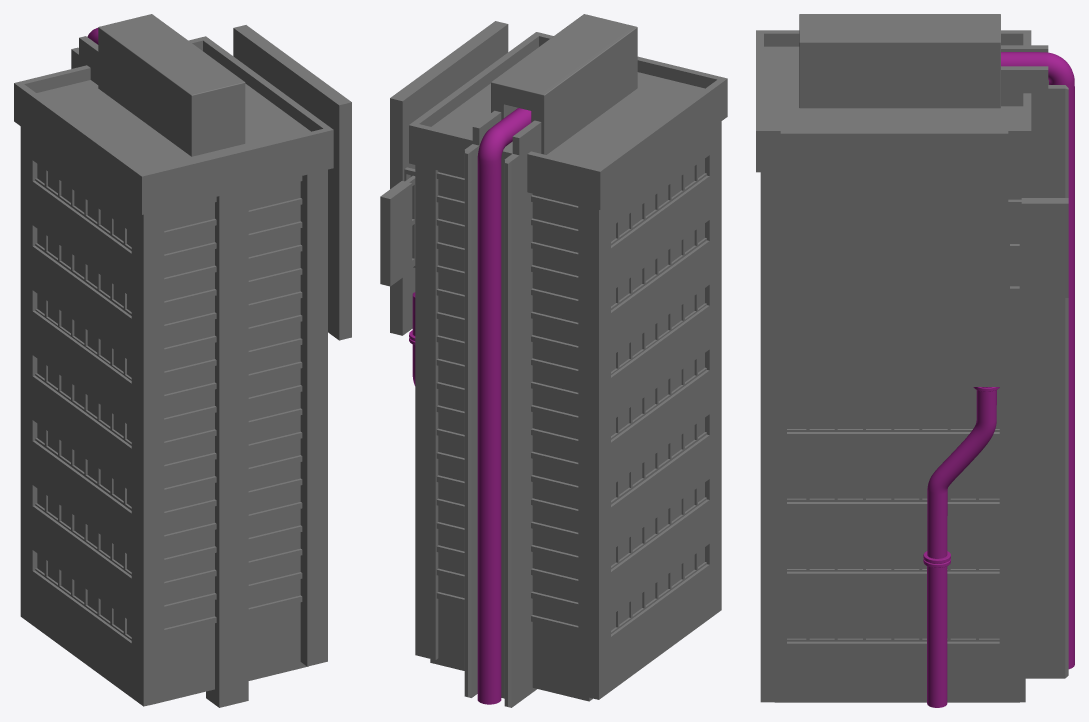
File: batiment6.fbx
3 renders of one model, left to right at view 1: azimuth 30°, elevation 25°; view 2: azimuth 150°, elevation 25°; view 3: azimuth 270°, elevation 25°, orthographic. The views are drawn at different scales.
Visible parts, largest first — view 1: Building_10_Main_04, Building_10_Main_06, Building_10_Main_01, Building_10_Main_02, Building_10_Main_05, Building_10_Main_08, Building_10_Main_03, Building_10_Sub_01, Building_10_Windows_02_4, Building_10_Windows_02_3, Building_10_Windows_02_7, Building_10_Windows_02_6 (+4 smaller); view 2: Building_10_Main_04, Building_10_Main_06, Building_10_Main_07, Building_10_Main_01, Building_10_Pipe_01, Building_10_Main_08, Building_10_Main_03, Building_10_Main_05, Building_10_Sub_01, Building_10_Sub_02, Building_10_Windows_02_6, Building_10_Windows_02_2 (+5 smaller); view 3: Building_10_Main_03, Building_10_Sub_01, Building_10_Main_07, Building_10_Main_08, Building_10_Main_01, Building_10_Pipe_02, Building_10_Pipe_01, Building_10_Sub_02, Building_10_Windows_01_4, Building_10_Windows_01_3, Building_10_Windows_01_1, Building_10_Windows_01_2.
Boxes of the visible parts, box(x1,y1,x2,y2) form: Building_10_Main_04: box(20, 126, 164, 706); Building_10_Main_06: box(151, 181, 308, 704); Building_10_Main_01: box(14, 36, 333, 214); Building_10_Main_02: box(206, 189, 248, 707); Building_10_Main_05: box(164, 176, 302, 635); Building_10_Main_08: box(98, 14, 245, 156); Building_10_Main_03: box(300, 169, 327, 666); Building_10_Sub_01: box(233, 25, 351, 340); Building_10_Windows_02_4: box(35, 359, 131, 445); Building_10_Windows_02_3: box(35, 423, 131, 510); Building_10_Windows_02_7: box(35, 164, 131, 250); Building_10_Windows_02_6: box(35, 229, 131, 315); Building_10_Main_04: box(578, 121, 721, 699); Building_10_Main_06: box(430, 170, 592, 701); Building_10_Main_07: box(464, 110, 541, 707); Building_10_Main_01: box(409, 32, 727, 209); Building_10_Pipe_01: box(477, 108, 531, 704); Building_10_Main_08: box(491, 14, 637, 154); Building_10_Main_03: box(415, 165, 438, 659); Building_10_Main_05: box(436, 172, 578, 632); Building_10_Sub_01: box(390, 21, 508, 335); Building_10_Sub_02: box(380, 167, 415, 286); Building_10_Windows_02_6: box(611, 223, 706, 310); Building_10_Windows_02_2: box(611, 482, 706, 569); Building_10_Main_03: box(760, 172, 1025, 702); Building_10_Sub_01: box(780, 127, 1008, 386); Building_10_Main_07: box(1001, 45, 1068, 678); Building_10_Main_08: box(799, 14, 1000, 108); Building_10_Main_01: box(756, 30, 1031, 172); Building_10_Pipe_02: box(923, 387, 999, 707); Building_10_Pipe_01: box(1001, 52, 1074, 669); Building_10_Sub_02: box(1008, 198, 1068, 297); Building_10_Windows_01_4: box(787, 411, 999, 431); Building_10_Windows_01_3: box(787, 481, 999, 501); Building_10_Windows_01_1: box(787, 621, 999, 641); Building_10_Windows_01_2: box(787, 551, 999, 571).
Bounding box in the file's own units: 461 × 1201 × 534.
